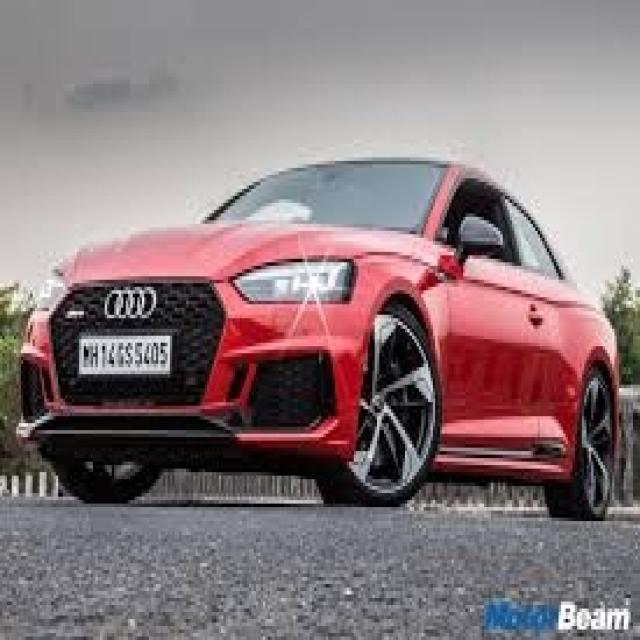red: (28, 156, 624, 568)
